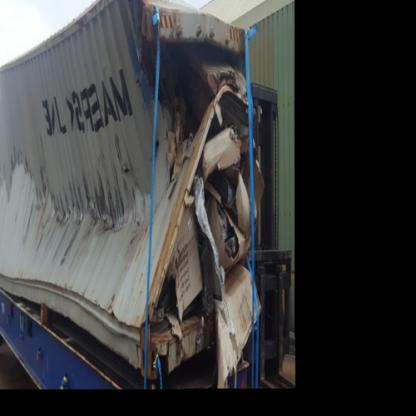Damage: (6, 26, 257, 366)
